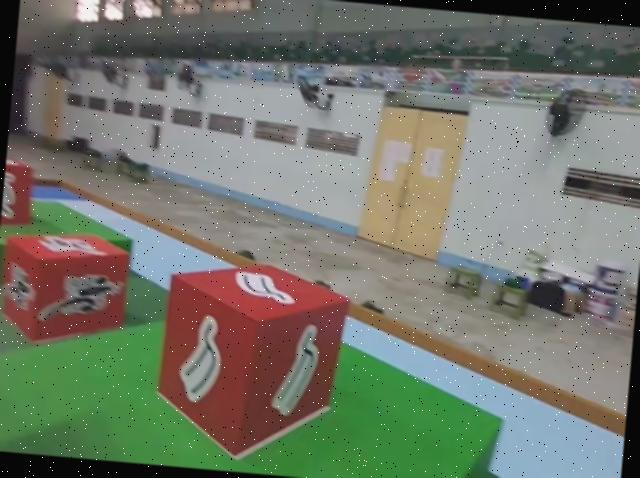R1: (0, 229, 129, 351)
R2 Real: (153, 255, 352, 473)
